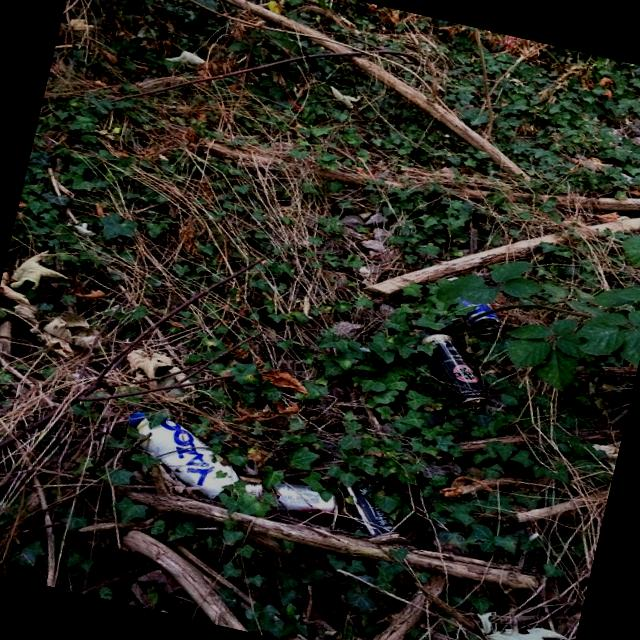Recycle: (117, 408, 250, 508), (408, 328, 506, 412), (332, 476, 414, 554), (267, 474, 350, 526), (446, 286, 509, 340)
